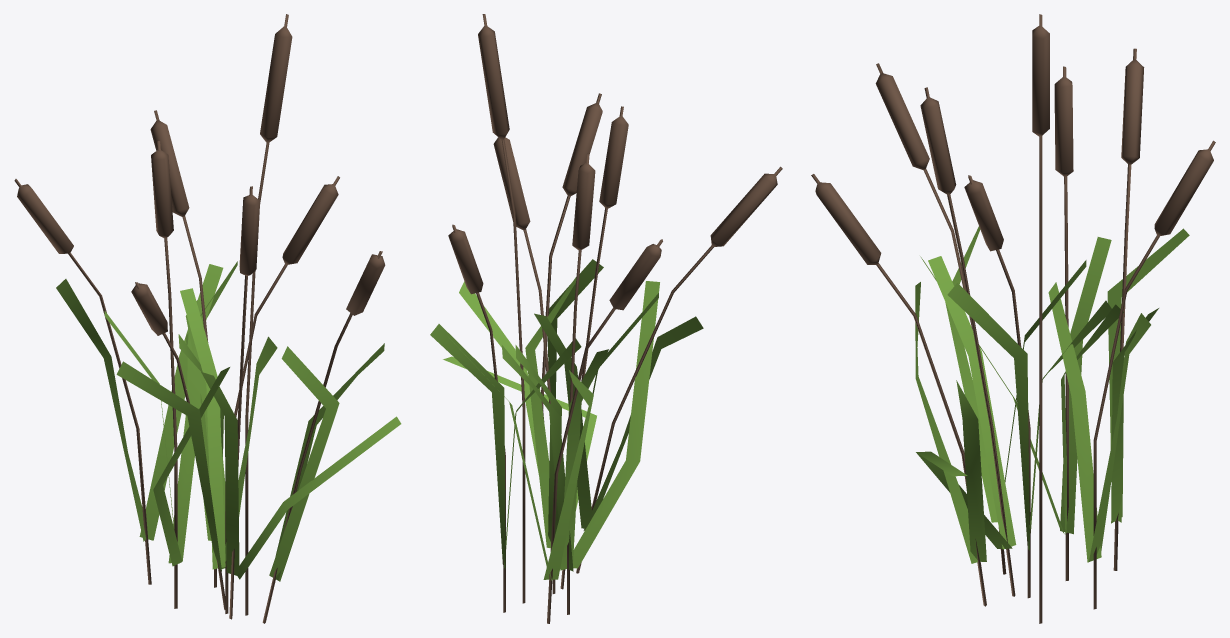
The model's file is Reed_11.fbx.
3 renders of one model, left to right at view 1: azimuth 30°, elevation 25°; view 2: azimuth 150°, elevation 25°; view 3: azimuth 270°, elevation 25°, orthographic. The views are drawn at different scales.
Visible parts, largest first — view 1: Reed 11; view 2: Reed 11; view 3: Reed 11.
Boxes of the visible parts, box(x1,y1,x2,y2) form: Reed 11: box(14, 14, 401, 623); Reed 11: box(430, 14, 782, 623); Reed 11: box(811, 14, 1215, 623).
Size of the model in its own units: 149 by 277 by 162.
